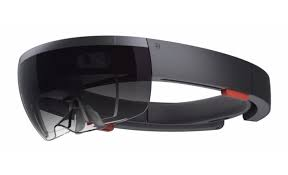hololens: (18, 32, 272, 144)
